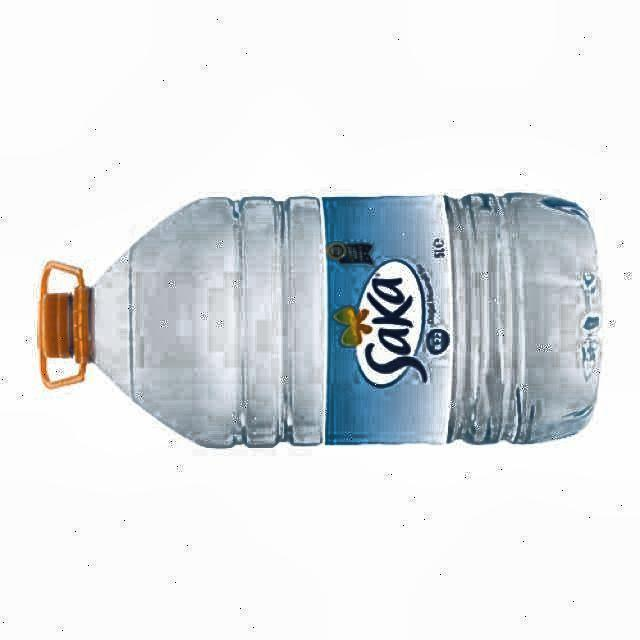plastic: (39, 192, 600, 447)
